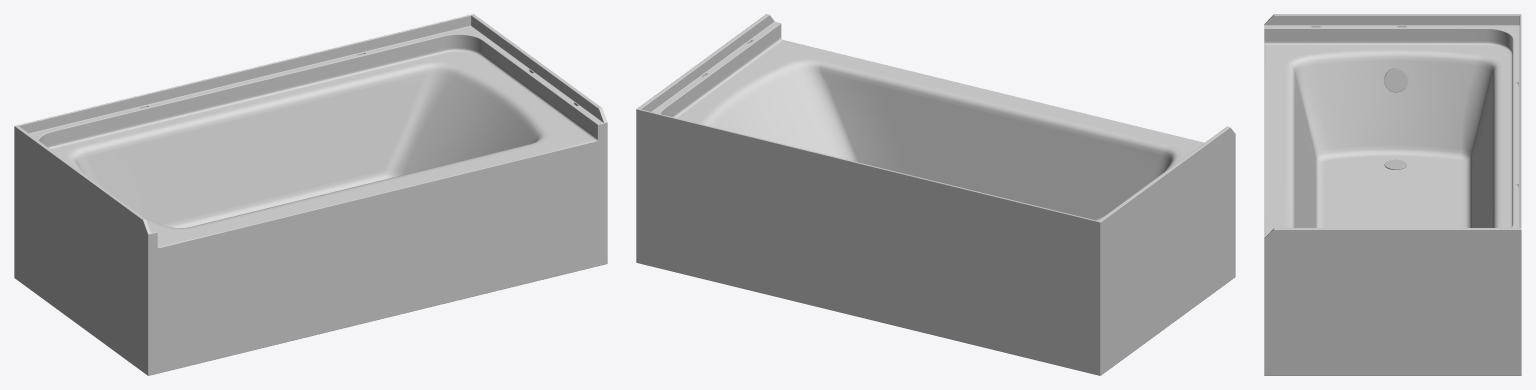
Rendered from sterling-rectangle-alcove.glb.
The picture shows the model from 3 angles, left to right: view 1: azimuth 30°, elevation 25°; view 2: azimuth 150°, elevation 25°; view 3: azimuth 270°, elevation 25°; orthographic projection. The views are drawn at different scales.
Parts seen in each view (by area): view 1: 805822-LOWES-BATHTUB_STERLING-paint; view 2: 805822-LOWES-BATHTUB_STERLING-paint; view 3: 805822-LOWES-BATHTUB_STERLING-paint.
Boxes of the visible parts, box(x1,y1,x2,y2) form: 805822-LOWES-BATHTUB_STERLING-paint: box(14, 14, 607, 375); 805822-LOWES-BATHTUB_STERLING-paint: box(636, 14, 1235, 375); 805822-LOWES-BATHTUB_STERLING-paint: box(1264, 14, 1521, 375).
Bounding box in the file's own units: 1.52 × 0.4826 × 0.7689.
Materials: 1 (1 with a texture image).
